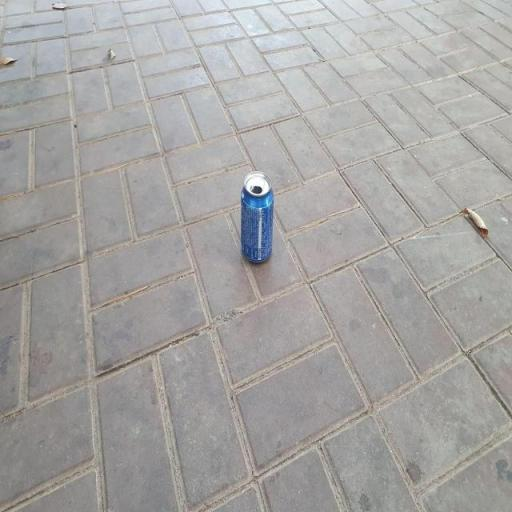metal: (237, 159, 285, 287)
